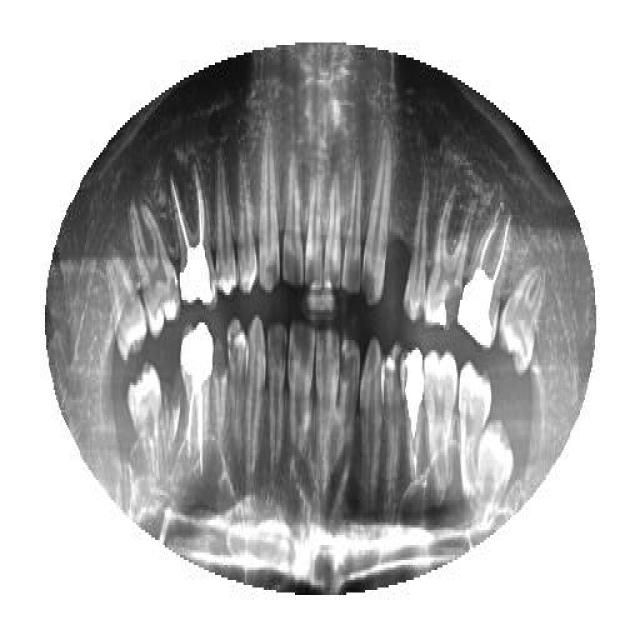Cavity: (424, 190, 481, 332), (214, 335, 228, 440)
Impacted Tooth: (472, 420, 518, 520)
Implant: (458, 205, 512, 353), (172, 152, 216, 308), (180, 318, 214, 478), (400, 345, 426, 487)
